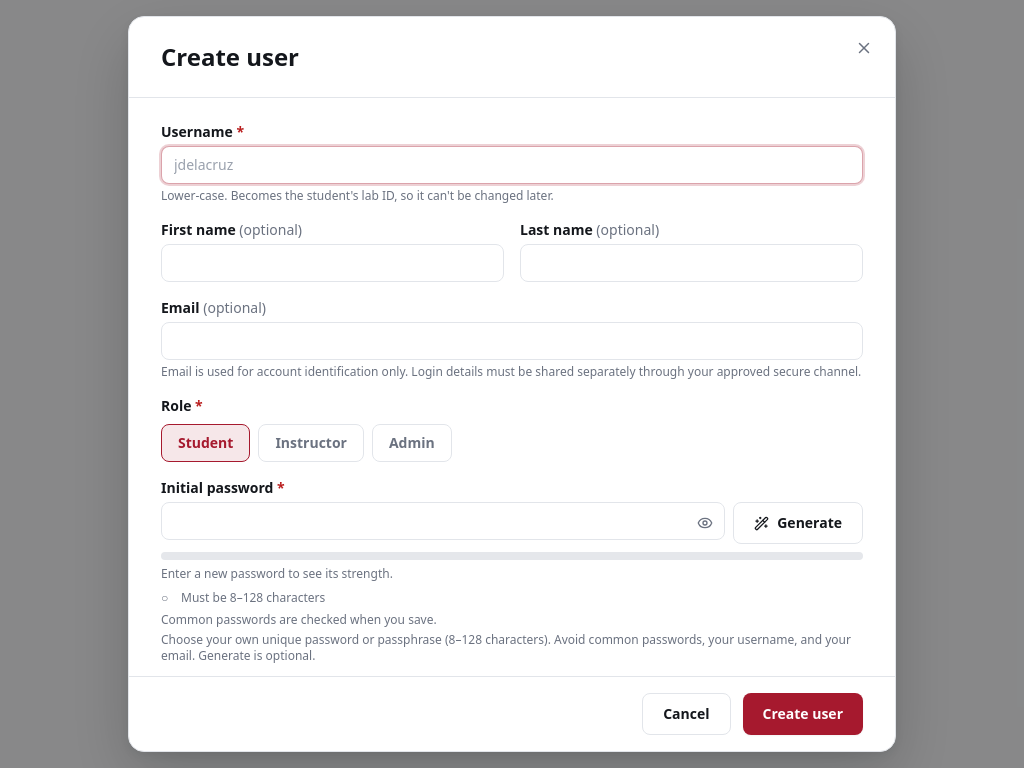
Test: CreateUserModal on a host without the user-admin client › shows other errors without the setup hint
Type "new_student" into the field labelled "Username *" at point(512, 165), box [161,146,863,184]
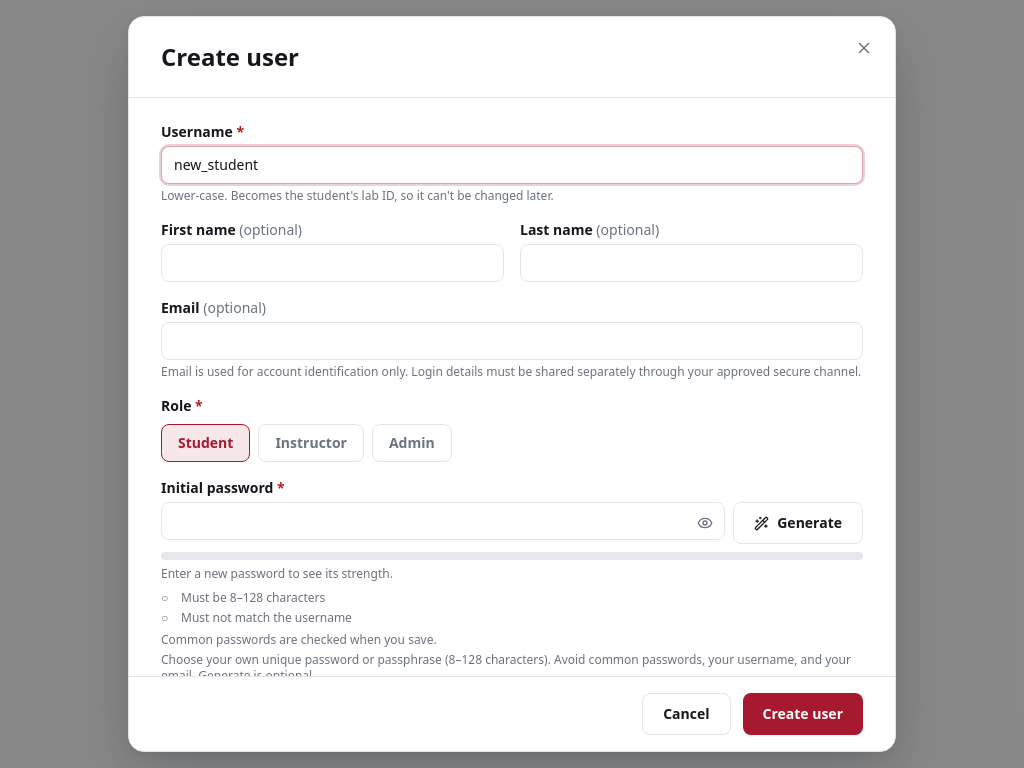
Type "Tmp!pass-1234" into the password field labelled "Initial password *" at point(443, 521), box [161,502,725,540]
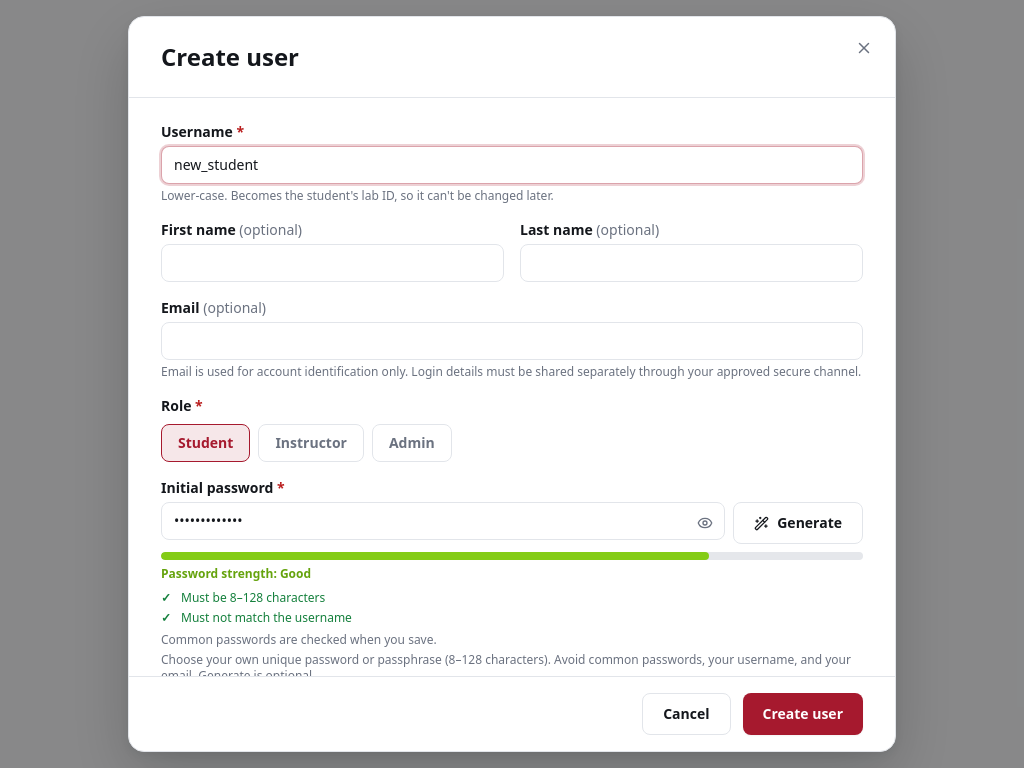
Click the button "Create user" at point(803, 714), box [742,693,863,735]
(page scrolled)
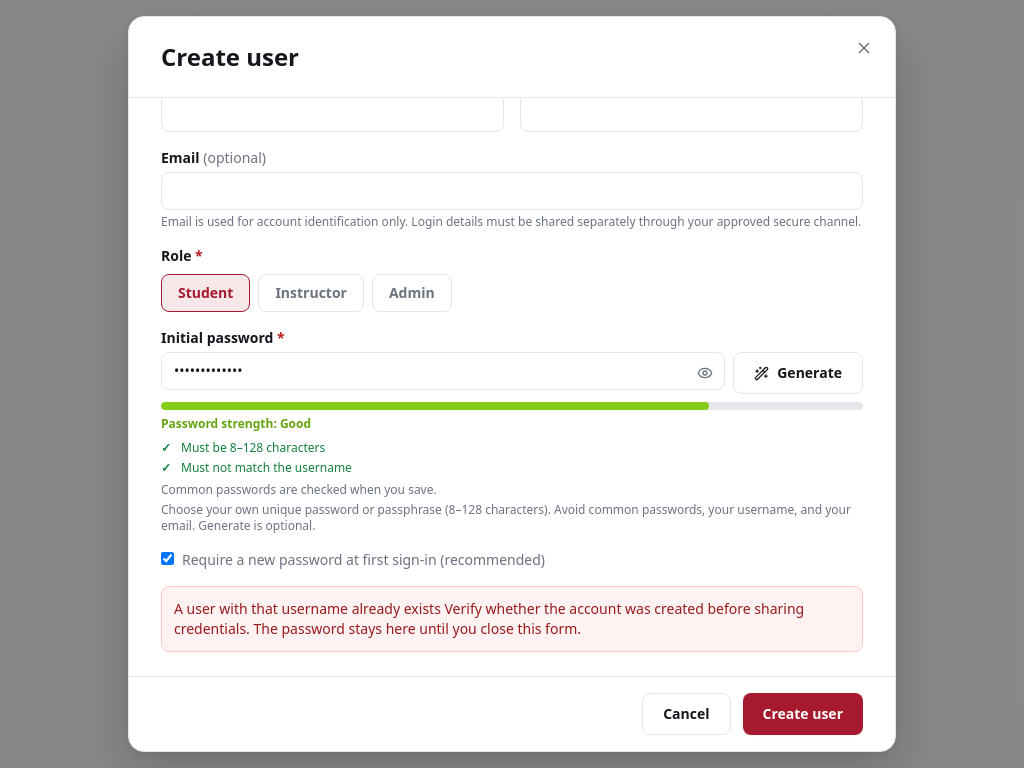
Expected: the 2nd message does not show "setup_user_admin_client.sh", [161,586,863,652]
Result: the 2nd message shows "already exists" at [174,599,804,638]
